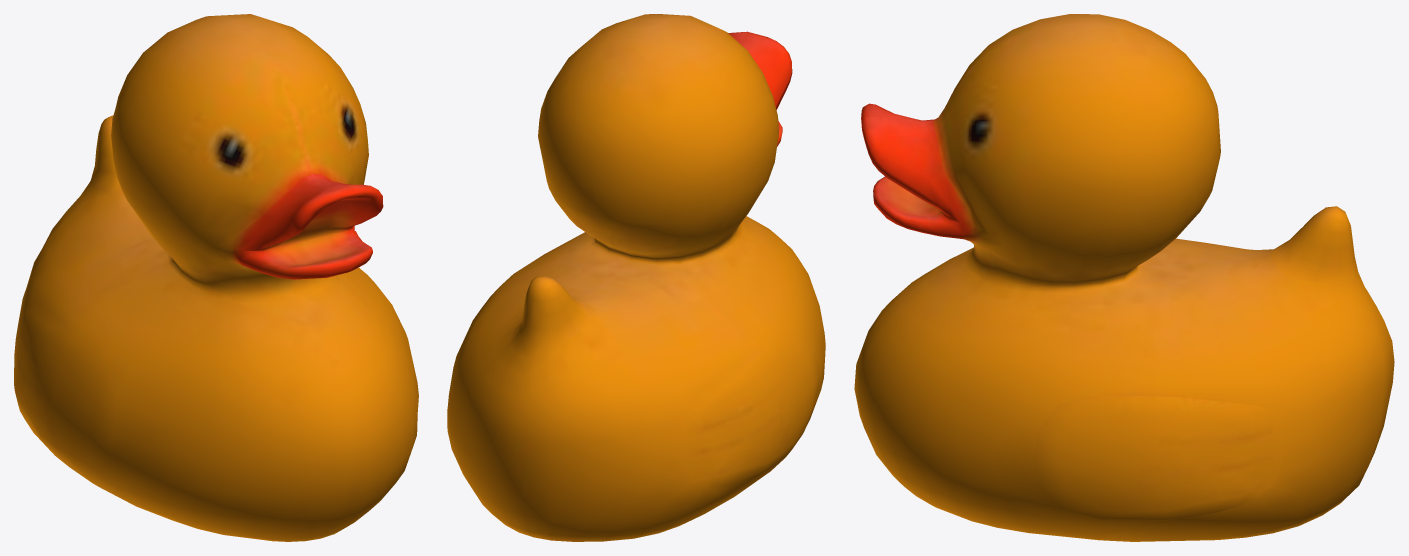
3 views of the same model, side by side, from view 1: azimuth 30°, elevation 25°; view 2: azimuth 150°, elevation 25°; view 3: azimuth 270°, elevation 25° (orthographic). The views are drawn at different scales.
Visible parts, largest first — view 1: rubber_duck_toy_lod1; view 2: rubber_duck_toy_lod1; view 3: rubber_duck_toy_lod1.
Boxes of the visible parts, x1,y1,x2,y2 form: rubber_duck_toy_lod1: (14, 14, 418, 541); rubber_duck_toy_lod1: (447, 14, 825, 541); rubber_duck_toy_lod1: (854, 14, 1394, 541).
Size of the model in its own units: 0.2135 by 0.2855 by 0.3.
Materials: 1 (1 with a texture image).
